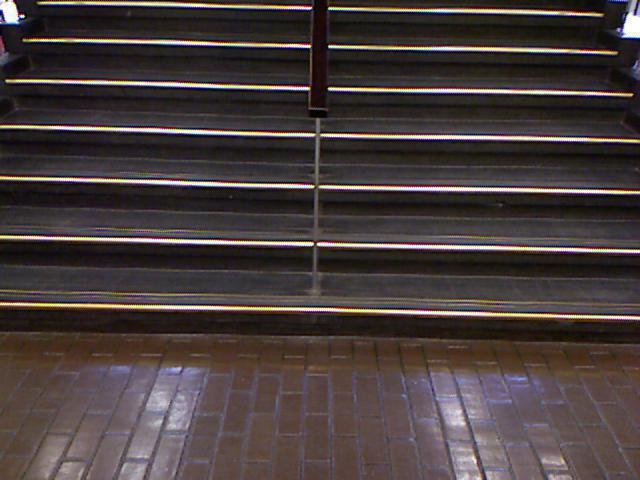Escaleras: (0, 0, 639, 344)
